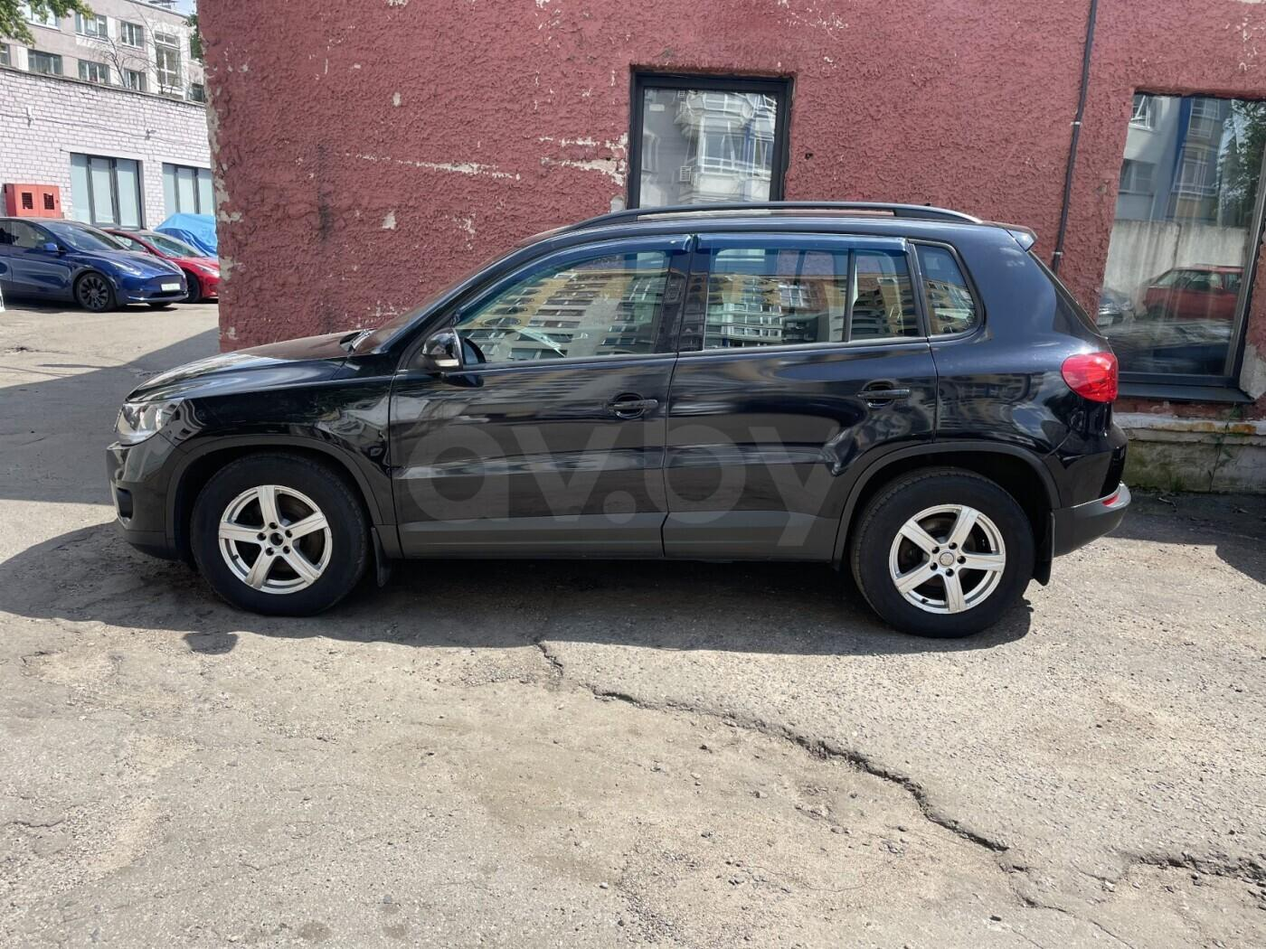Tiguan_2011-2018: (98, 199, 1137, 643)
